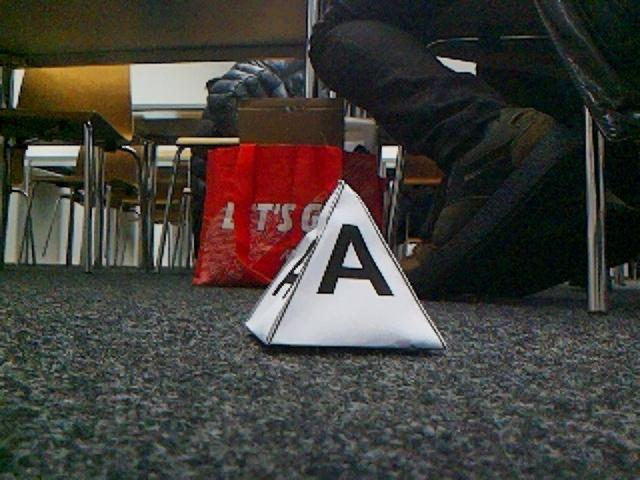A: (240, 177, 444, 353)
